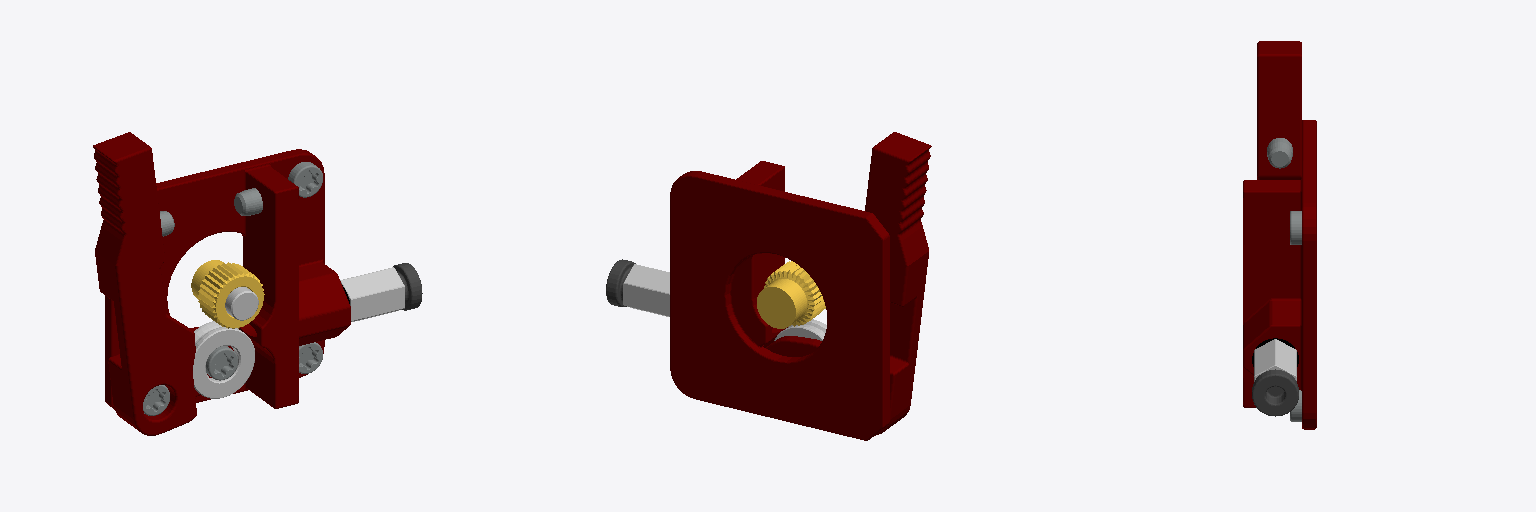
File: Extruder.obj
3 renders of one model, left to right at view 1: azimuth 30°, elevation 25°; view 2: azimuth 150°, elevation 25°; view 3: azimuth 270°, elevation 25°, orthographic.
Parts seen in each view (by area): view 1: Extruder_Cube.026; view 2: Extruder_Cube.026; view 3: Extruder_Cube.026.
Boxes of the visible parts, <box> form: Extruder_Cube.026: <box>93,132,422,435</box>; Extruder_Cube.026: <box>606,132,931,440</box>; Extruder_Cube.026: <box>1243,41,1316,429</box>.
Bounding box in the file's own units: 0.0668 × 0.0604 × 0.0139.